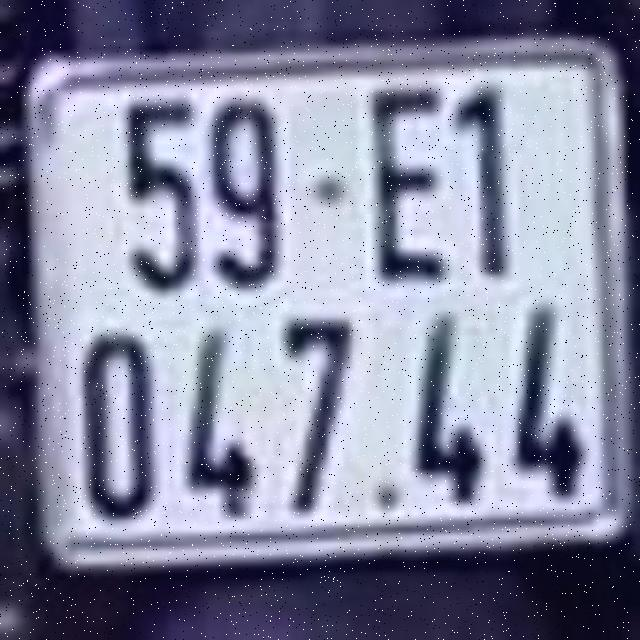0: (78, 322, 159, 522)
1: (452, 78, 522, 280)
4: (509, 296, 587, 501), (181, 319, 259, 523), (410, 305, 486, 508)
5: (120, 92, 201, 294)
7: (278, 310, 354, 516)
9: (208, 90, 282, 292)
E: (368, 77, 451, 284)
